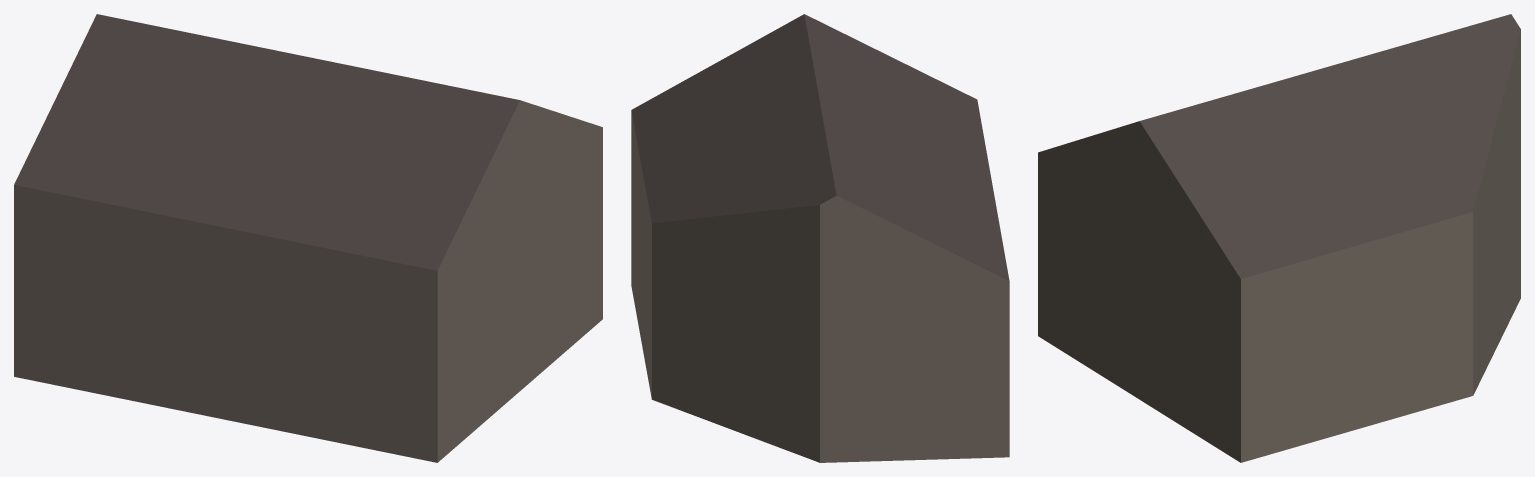
3 renders of one model, left to right at view 1: azimuth 30°, elevation 25°; view 2: azimuth 150°, elevation 25°; view 3: azimuth 270°, elevation 25°, orthographic. The views are drawn at different scales.
Parts seen in each view (by area): view 1: HP-w369237998; view 2: HP-w369237998; view 3: HP-w369237998.
Boxes of the visible parts, x1,y1,x2,y2 form: HP-w369237998: (14, 14, 602, 462); HP-w369237998: (631, 14, 1009, 462); HP-w369237998: (1038, 14, 1520, 462).
Size of the model in its own units: 16.37 by 9.09 by 14.28.
